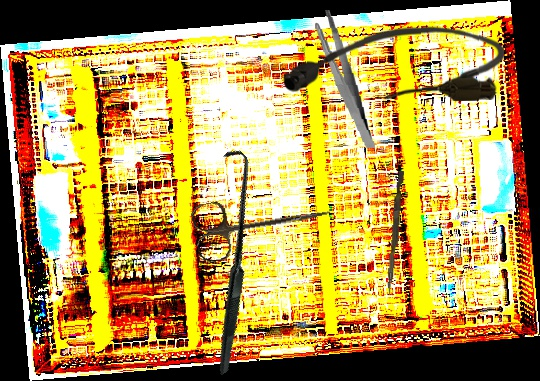Cannula: (281, 25, 505, 104)
Dressing Forceps: (313, 7, 376, 152)
Hook Surgical: (113, 145, 344, 376)
Iris Scissors: (189, 180, 336, 265)
Pusher: (386, 170, 405, 295)
